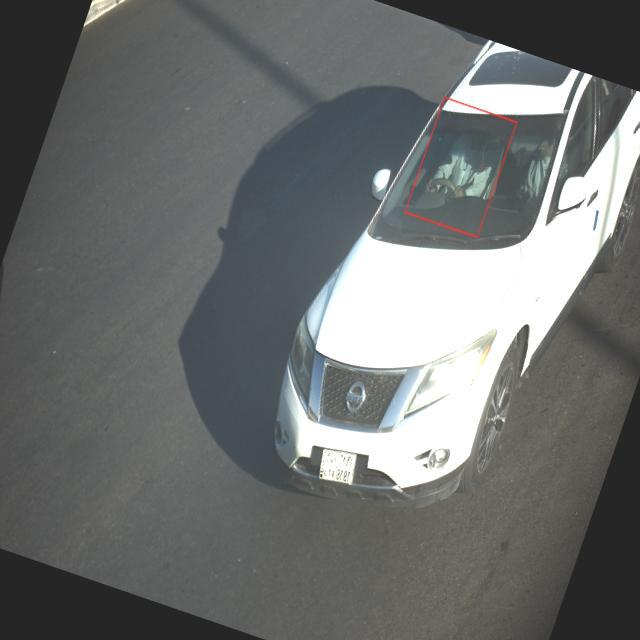windshield: (366, 106, 573, 250)
